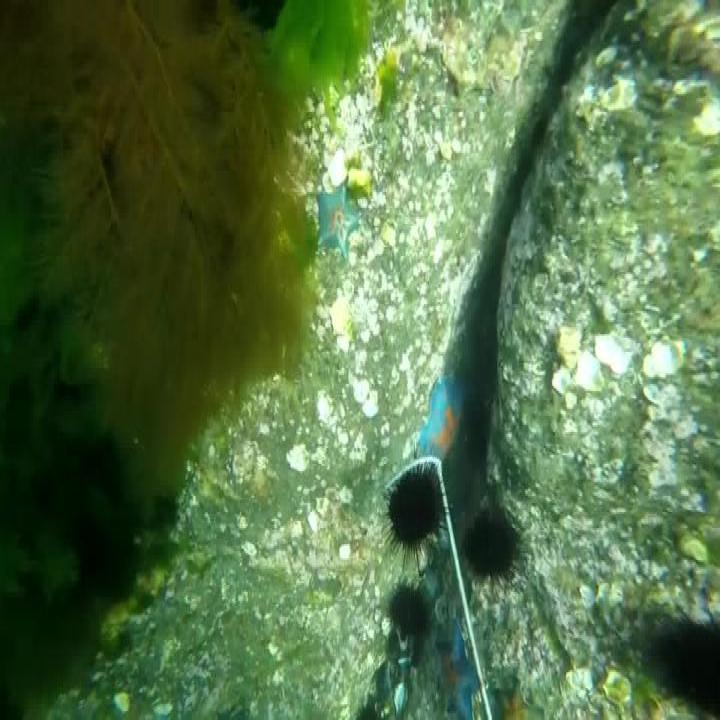echinus: (650, 613, 720, 720), (381, 463, 447, 556), (458, 512, 516, 588), (389, 585, 430, 635)
scallop: (639, 340, 682, 386), (567, 345, 603, 396), (595, 338, 629, 377), (328, 298, 350, 338), (329, 148, 348, 187), (609, 674, 630, 704)
starfish: (434, 631, 482, 720), (420, 375, 469, 459), (315, 185, 361, 259)
